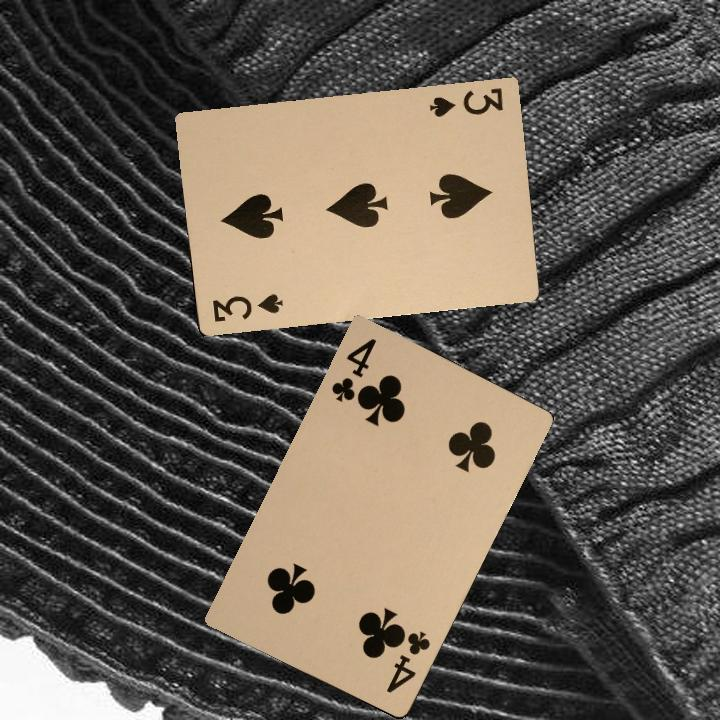3s: (426, 84, 506, 120), (209, 290, 286, 324)
4c: (327, 334, 379, 405), (382, 626, 433, 696)
